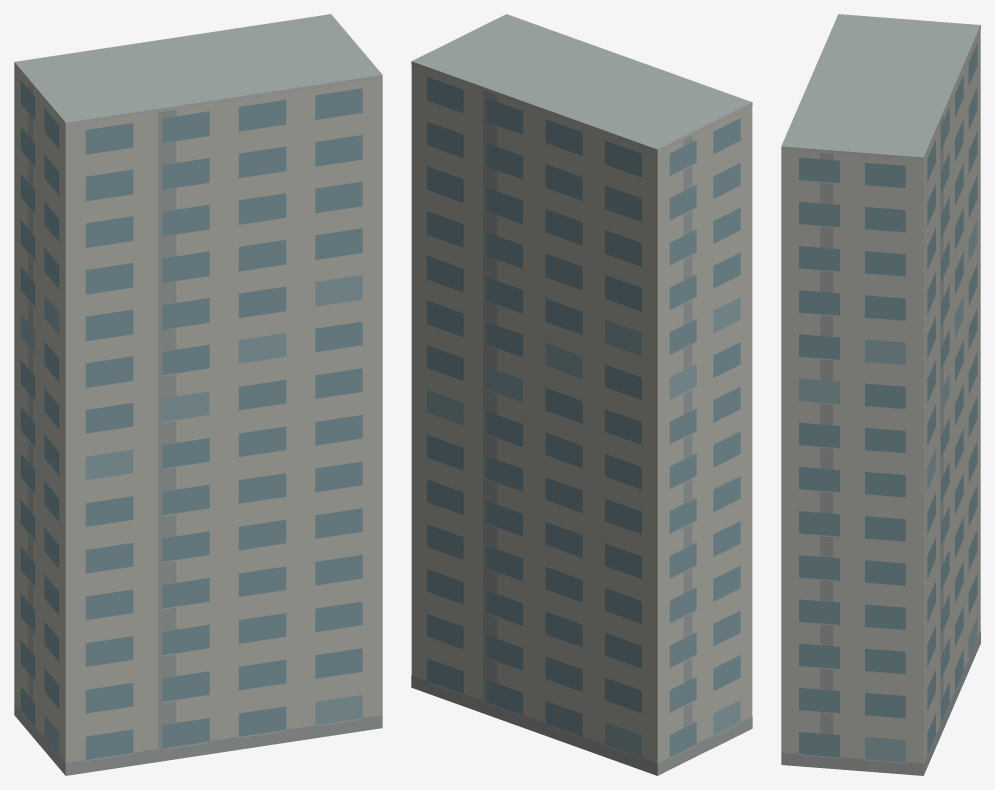
Rendered from residential-1caa4b8f-e8a5-4c1f-ae10-d6c78f6a2a16.glb.
3 renders of one model, left to right at view 1: azimuth 30°, elevation 25°; view 2: azimuth 150°, elevation 25°; view 3: azimuth 270°, elevation 25°, orthographic. The views are drawn at different scales.
Visible parts, largest first — view 1: residential-1caa4b8f-e8a5-4c1f-ae10-d6c78f6a2a16.tmp; view 2: residential-1caa4b8f-e8a5-4c1f-ae10-d6c78f6a2a16.tmp; view 3: residential-1caa4b8f-e8a5-4c1f-ae10-d6c78f6a2a16.tmp.
Boxes of the visible parts, <box> form: residential-1caa4b8f-e8a5-4c1f-ae10-d6c78f6a2a16.tmp: <box>14,14,382,775</box>; residential-1caa4b8f-e8a5-4c1f-ae10-d6c78f6a2a16.tmp: <box>411,14,752,775</box>; residential-1caa4b8f-e8a5-4c1f-ae10-d6c78f6a2a16.tmp: <box>781,14,980,775</box>.
Bounding box in the file's own units: 21.9 × 44 × 12.88.
